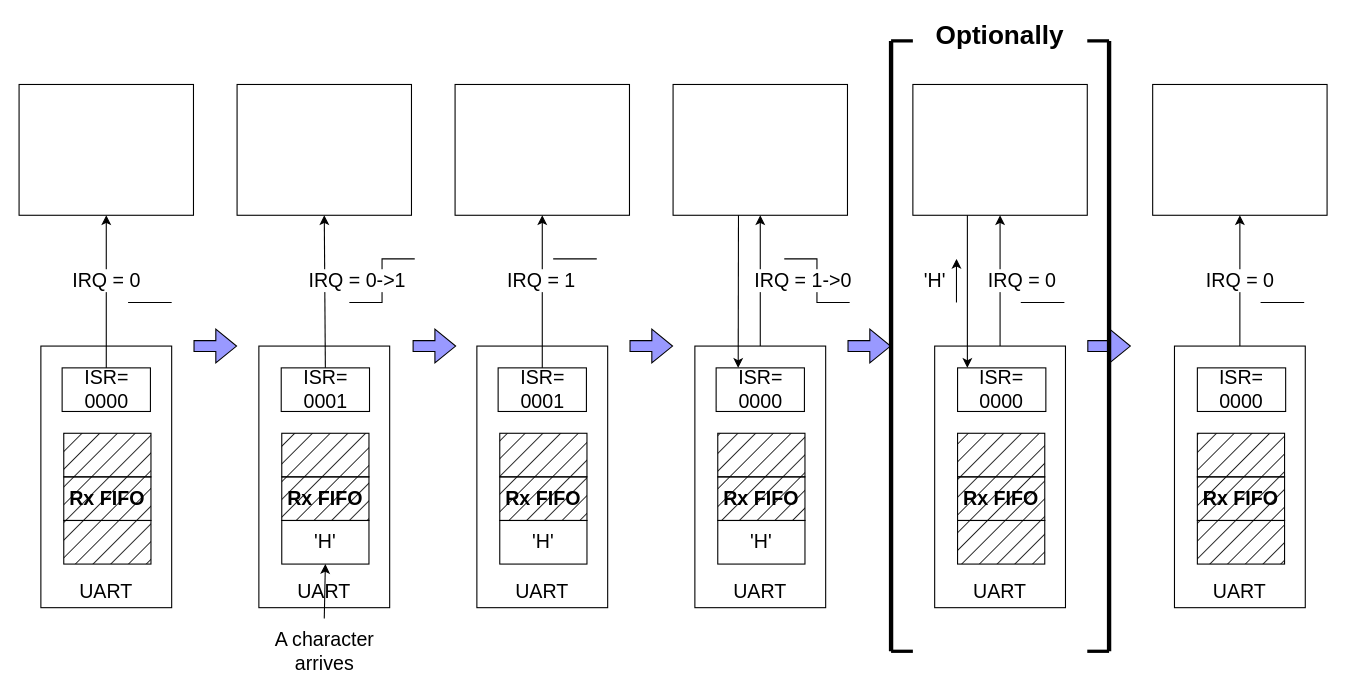
The diagram is 1346 pixels wide and 694 high, and some of its shapes have lost their labels. The shapes that lost their labels are listed below. From the top down, each one's box as (x1, y1, x2, y2) in pixels, then its label:
(18, 83, 193, 215): CPU
(236, 83, 411, 215): CPU in M-Mode
(454, 83, 629, 215): CPU enters uart_irq_handler()
(672, 83, 847, 215): CPU uart_irq_handler() acknowledges IRQ by writing to ISR reg.
(912, 83, 1087, 215): CPU uart_irq_handler() reads character from FIFO
(1152, 83, 1327, 215): CPU uart_irq_handler() returns from interrupt (iret)
